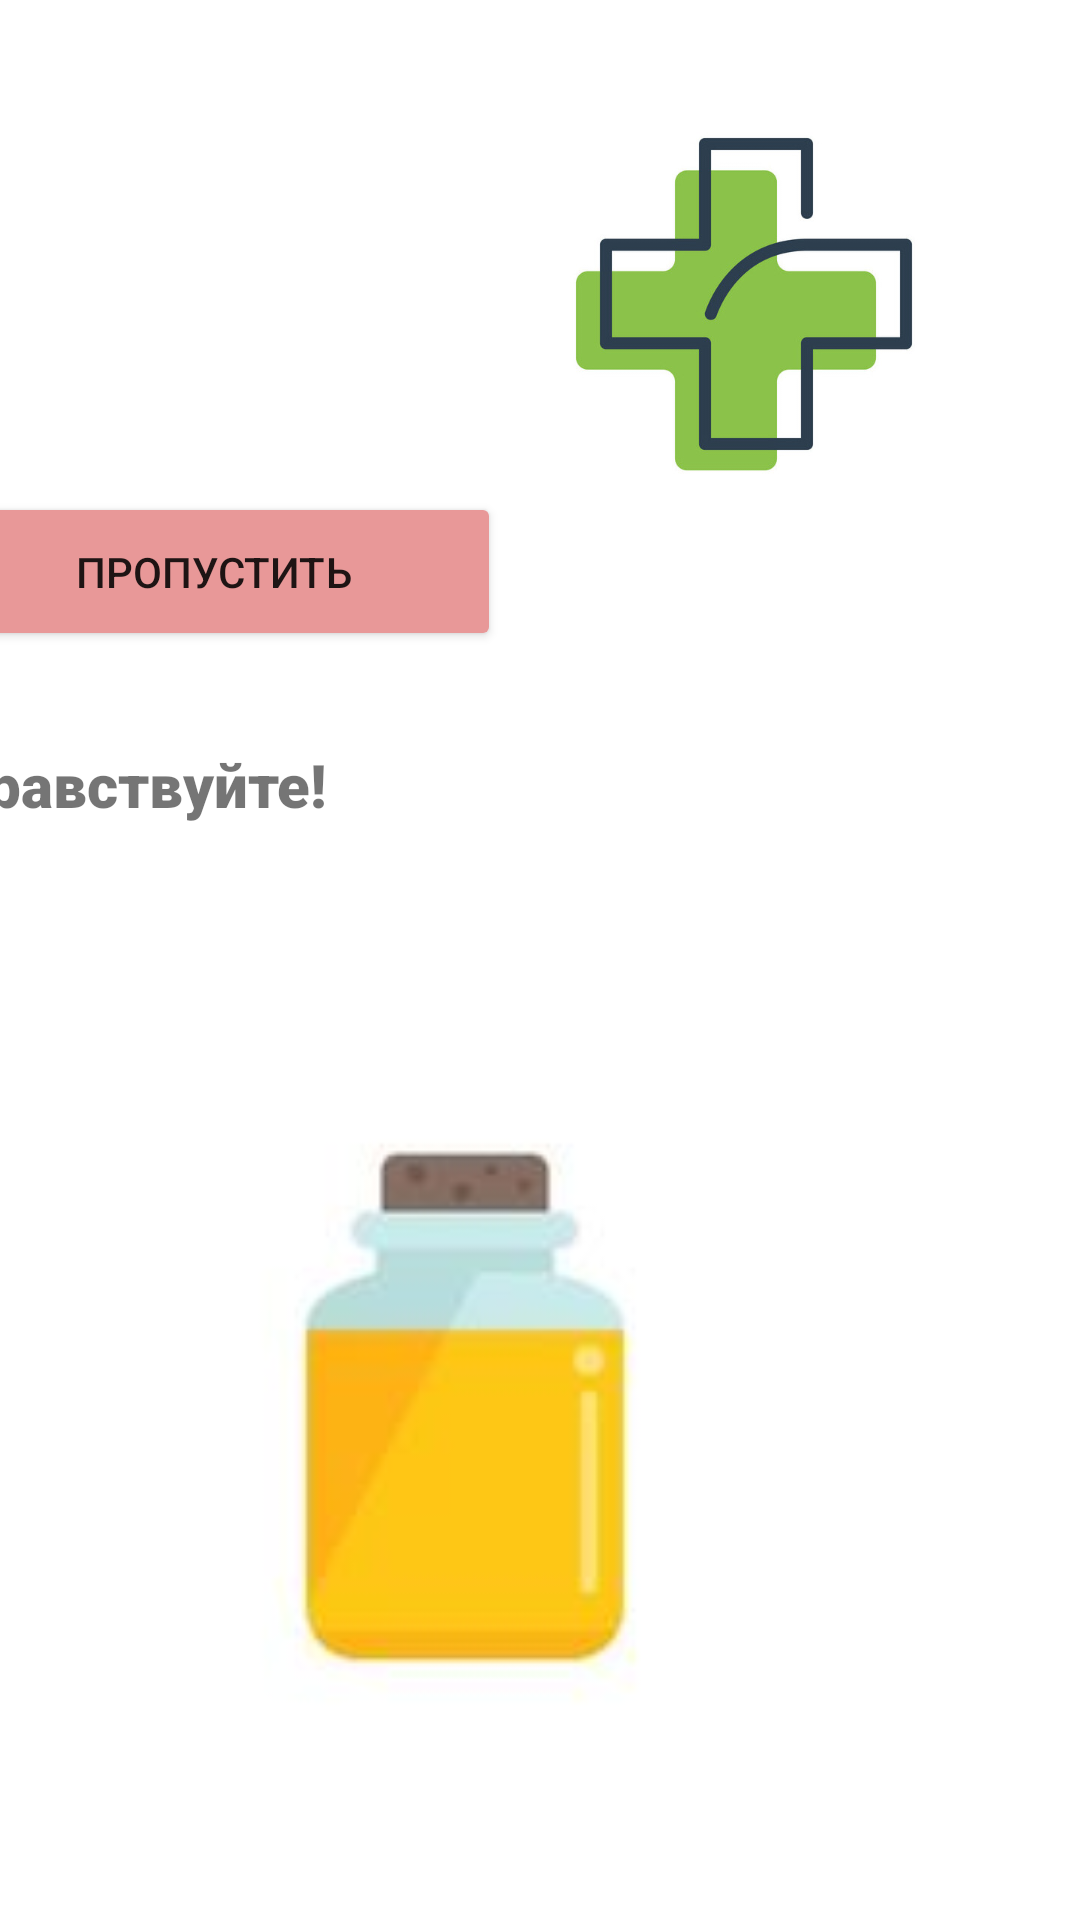

Icon click points for this 1080px x 1920px phone screenshot, format (x=x, y=y):
midical: (x=744, y=304)
